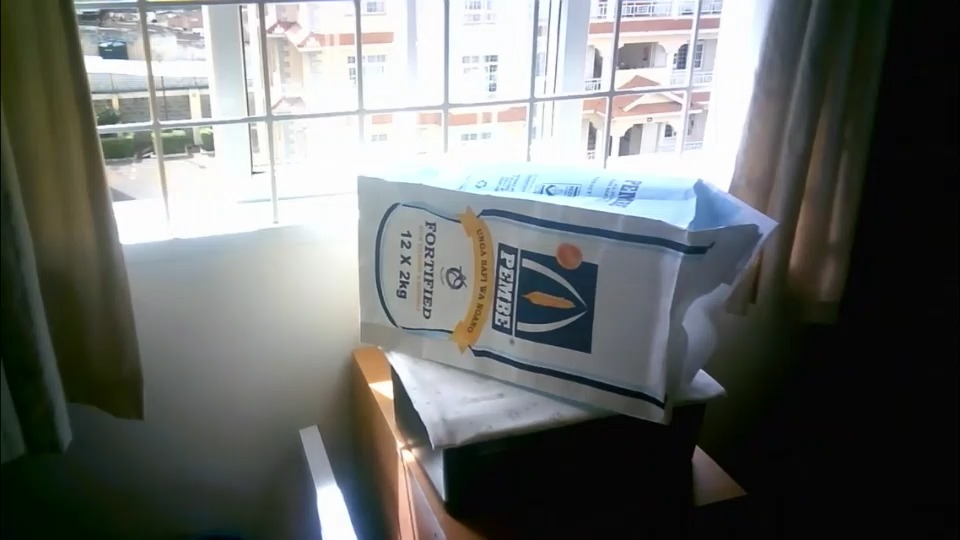wheat_flour_blue_label: (353, 162, 778, 420)
